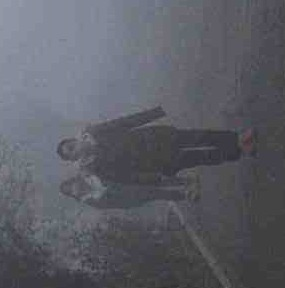person: (57, 106, 261, 175), (58, 172, 204, 209)
